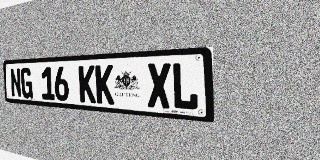1: (41, 67, 55, 100)
6: (54, 66, 69, 101)
G: (20, 67, 33, 99)
K: (95, 65, 114, 105), (78, 65, 96, 103)
L: (171, 62, 199, 111)
N: (10, 68, 22, 98)
X: (147, 63, 171, 109)
